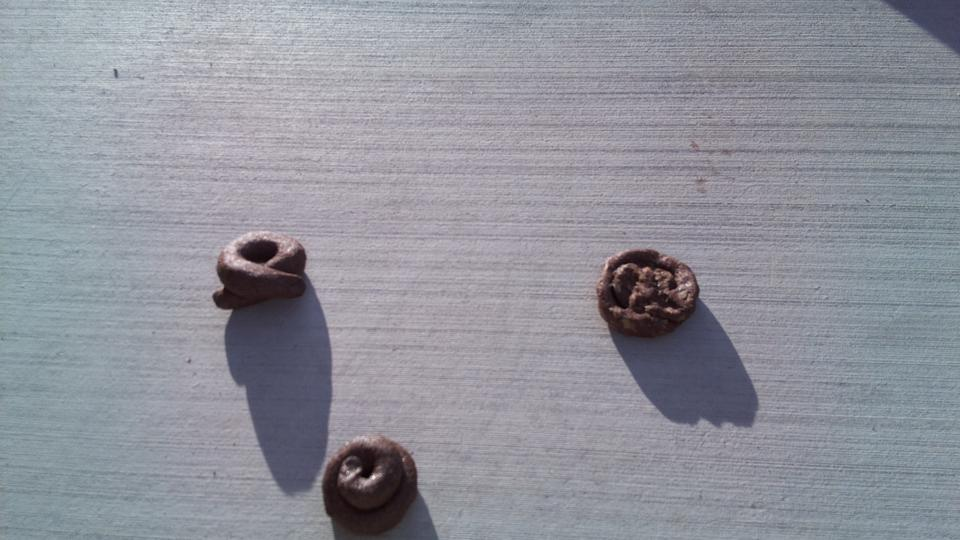poop: (318, 430, 423, 531), (592, 244, 703, 339), (209, 228, 314, 318)
